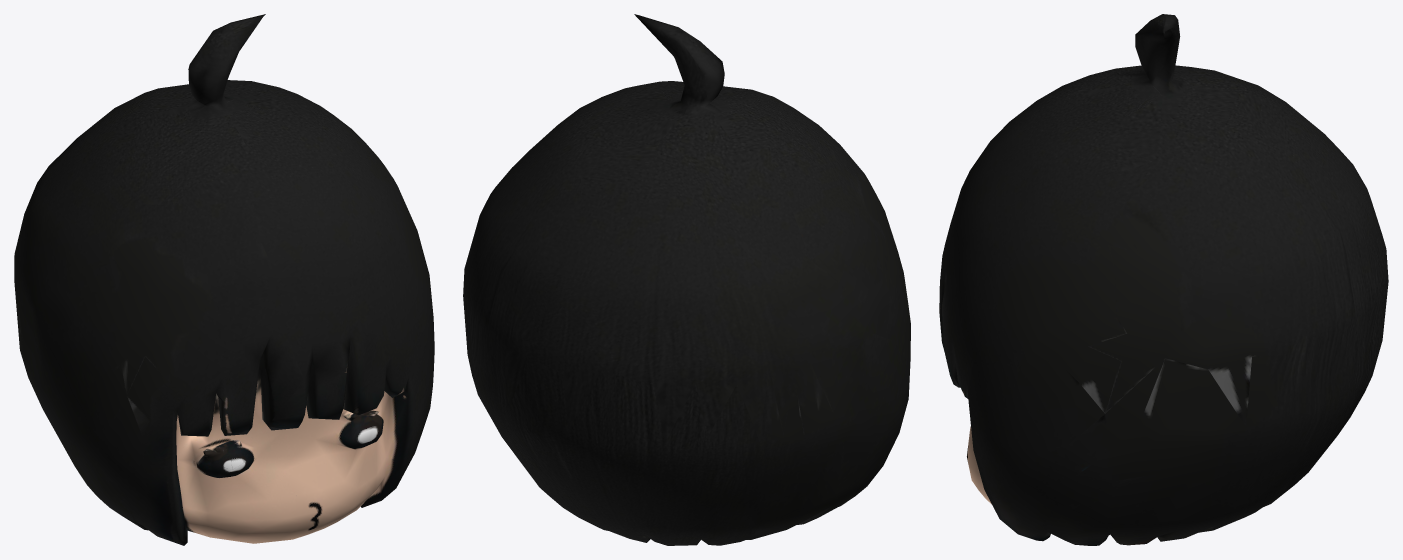
File: head.glb
3 views of the same model, side by side, from view 1: azimuth 30°, elevation 25°; view 2: azimuth 150°, elevation 25°; view 3: azimuth 270°, elevation 25° (orthographic). The views are drawn at different scales.
Visible parts, largest first — view 1: tripo_node_2aa05aed.001; view 2: tripo_node_2aa05aed.001; view 3: tripo_node_2aa05aed.001.
Part boxes in pixels (x1=…): tripo_node_2aa05aed.001: x1=14, y1=14, x2=434, y2=545; tripo_node_2aa05aed.001: x1=463, y1=14, x2=910, y2=545; tripo_node_2aa05aed.001: x1=939, y1=14, x2=1388, y2=545.
Bounding box in the file's own units: 0.3458 × 0.436 × 0.3536.
1 material, 1 textured.
